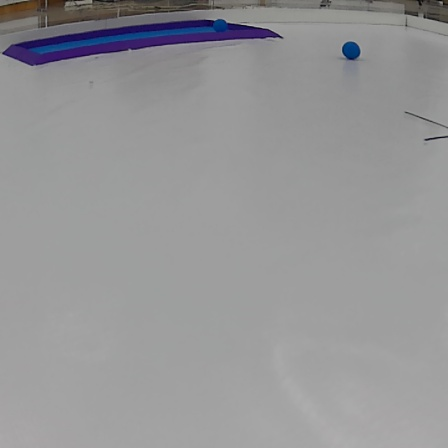blue: (341, 40, 362, 63), (212, 17, 230, 33)
blue_aim: (1, 17, 284, 64)
